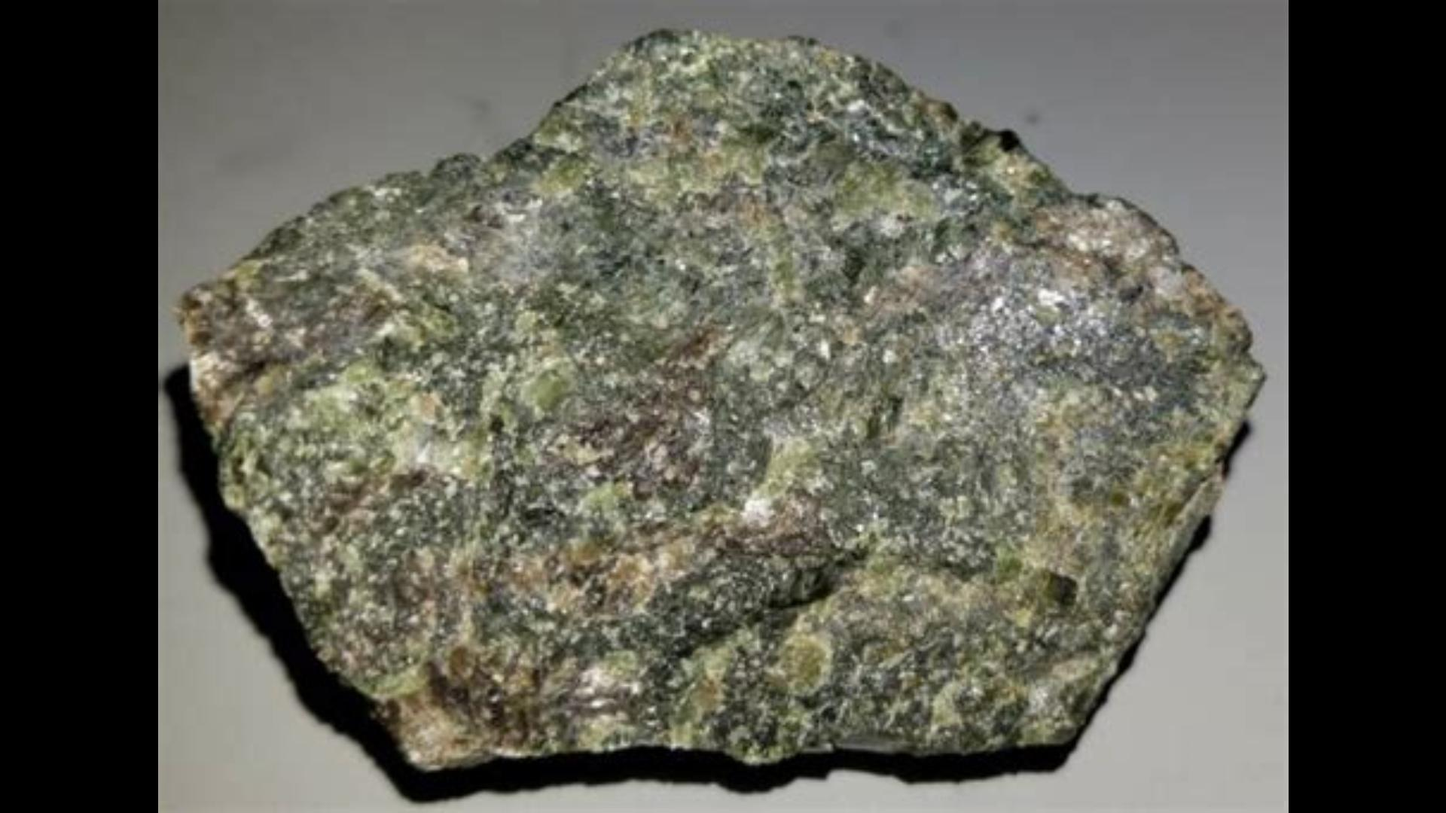rock: (184, 36, 1259, 794)
